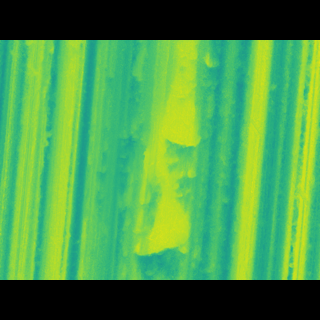Loch: (117, 79, 202, 234)
